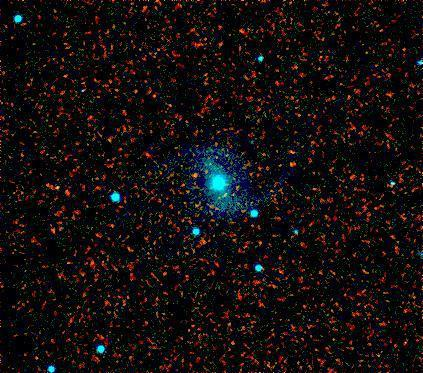star: (180, 161, 210, 191)
